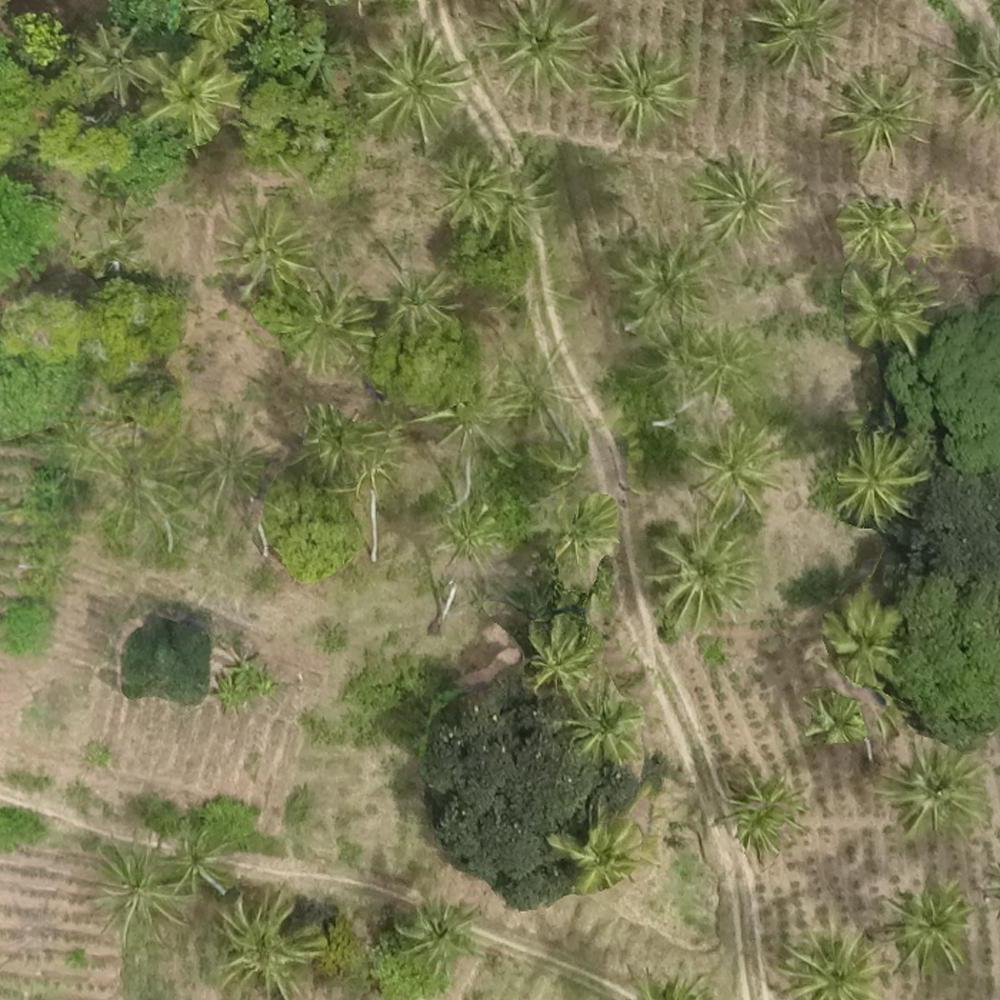Palm: (358, 24, 466, 138), (215, 886, 322, 999), (644, 524, 754, 627), (481, 1, 596, 99), (881, 740, 987, 840), (826, 67, 931, 165), (91, 835, 192, 935), (208, 196, 310, 295), (597, 44, 699, 138), (695, 148, 794, 242), (881, 879, 975, 972), (685, 419, 777, 513), (616, 232, 705, 328), (145, 44, 235, 138), (749, 1, 846, 80), (820, 589, 903, 680), (840, 429, 921, 521), (778, 921, 871, 1000), (722, 766, 807, 852), (554, 811, 644, 892), (68, 21, 152, 102), (842, 263, 927, 343), (563, 686, 647, 766), (443, 150, 526, 230), (833, 189, 920, 262), (395, 891, 476, 967), (522, 618, 597, 697), (807, 688, 872, 754)
